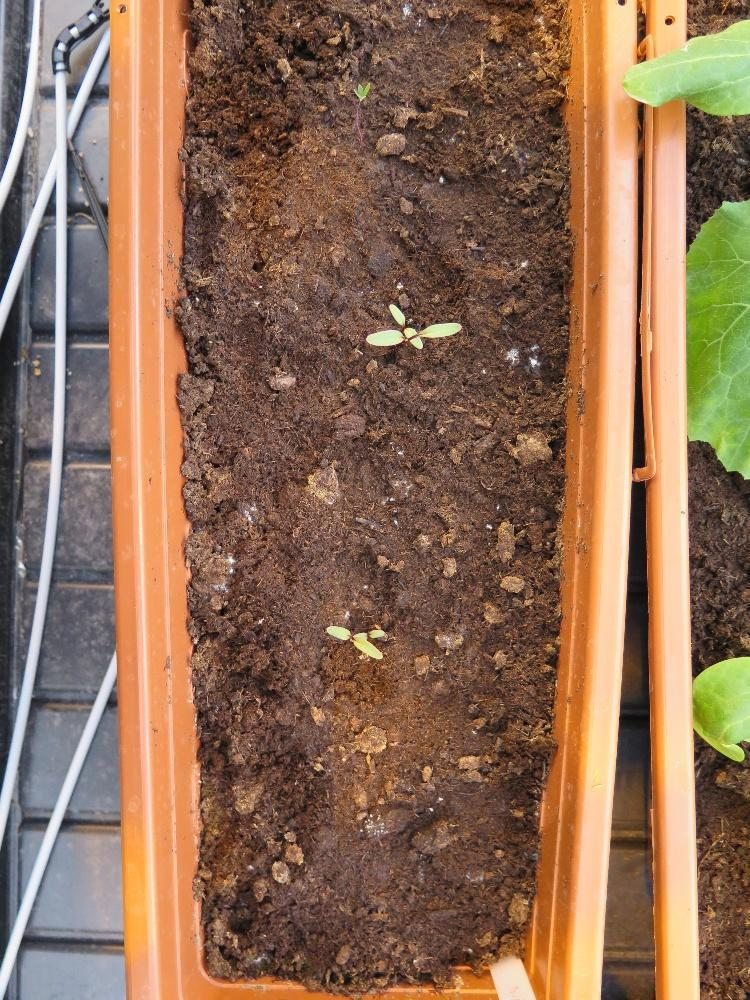weed: (349, 77, 371, 106)
